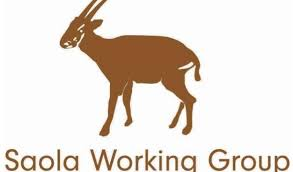sao_la: (58, 2, 202, 135)
